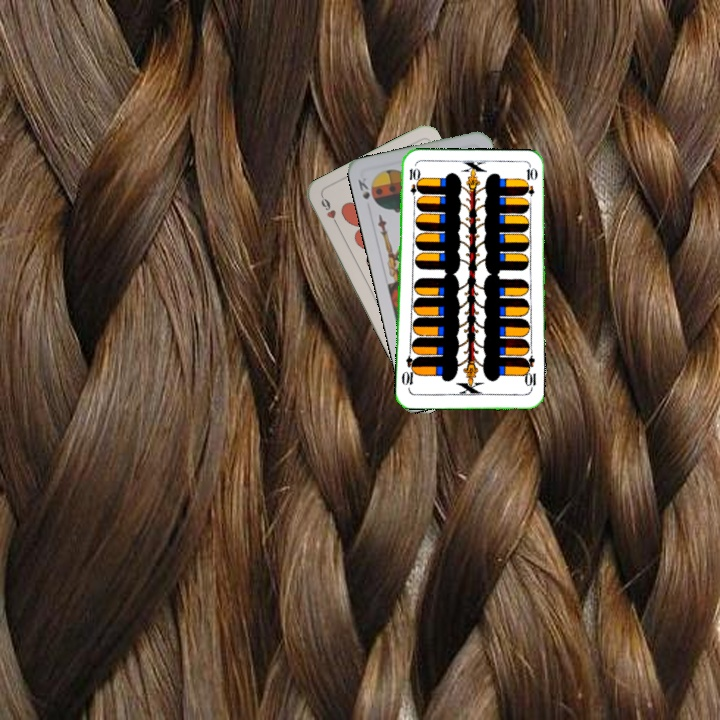E10: (520, 353, 539, 394), (406, 164, 422, 204)
H9: (317, 192, 341, 230)
SK: (354, 173, 379, 208)
